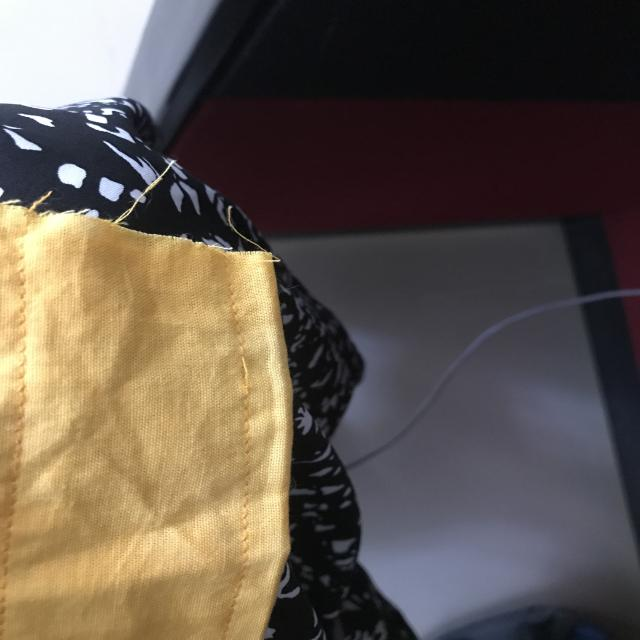skip: (225, 346, 267, 399)
